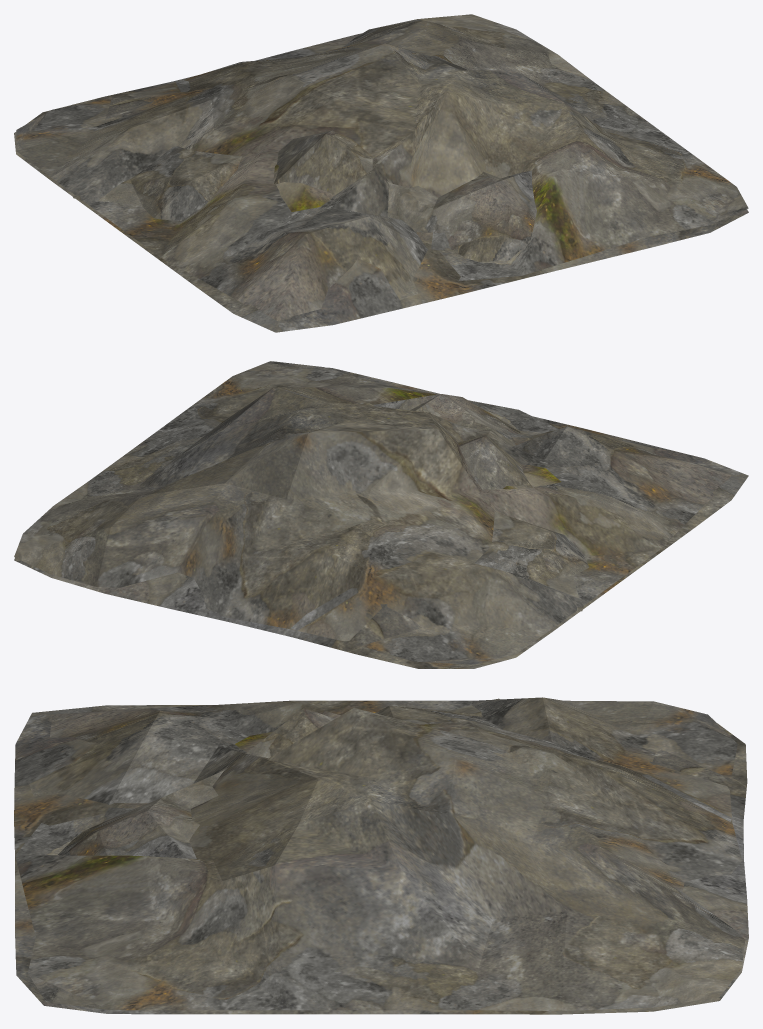
The model's file is ruin-wreckage.glb.
3 renders of one model, top to bottom at view 1: azimuth 30°, elevation 25°; view 2: azimuth 150°, elevation 25°; view 3: azimuth 270°, elevation 25°, orthographic. The views are drawn at different scales.
Parts seen in each view (by area): view 1: M02_ruin-wreckage.001, M02_ruin-wreckage, M02_ruin-wreckage.002; view 2: M02_ruin-wreckage.001, M02_ruin-wreckage.002, M02_ruin-wreckage; view 3: M02_ruin-wreckage.001, M02_ruin-wreckage.002, M02_ruin-wreckage.
Part boxes in pixels (x1,y1,x2,y2): M02_ruin-wreckage.001: (16,14,748,321); M02_ruin-wreckage: (73,130,536,261); M02_ruin-wreckage.002: (14,33,748,332); M02_ruin-wreckage.001: (14,361,731,664); M02_ruin-wreckage.002: (14,367,748,668); M02_ruin-wreckage: (373,394,589,611); M02_ruin-wreckage.001: (15,697,745,1010); M02_ruin-wreckage.002: (14,705,748,1014); M02_ruin-wreckage: (58,698,501,858).
Size of the model in its own units: 20.22 by 3.73 by 20.08.
1 material, 1 textured.
